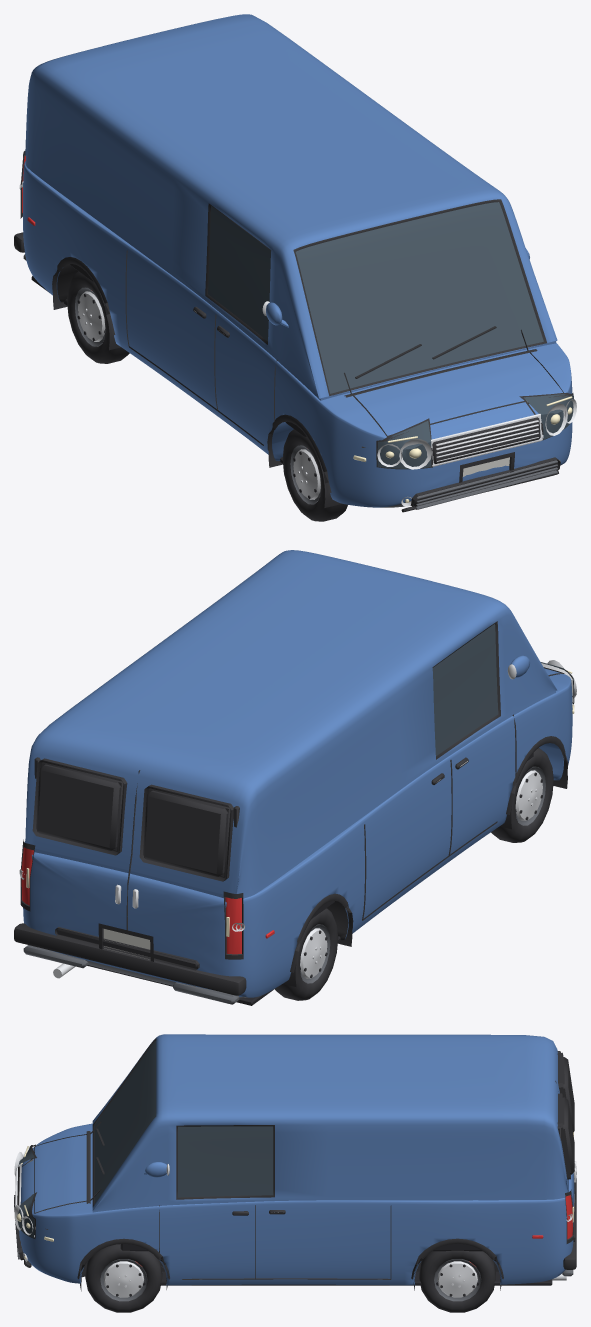
Rendered from CarV3_Van.fbx.
3 views of the same model, one above another, from view 1: azimuth 30°, elevation 25°; view 2: azimuth 150°, elevation 25°; view 3: azimuth 270°, elevation 25° (orthographic). The views are drawn at different scales.
Parts seen in each view (by area): view 1: CarV3_Van; view 2: CarV3_Van; view 3: CarV3_Van.
Boxes of the visible parts, <box> form: CarV3_Van: <box>14,14,576,521</box>; CarV3_Van: <box>14,550,576,1005</box>; CarV3_Van: <box>14,1034,576,1312</box>.
Size of the model in its own units: 2.06 by 1.99 by 5.06.
